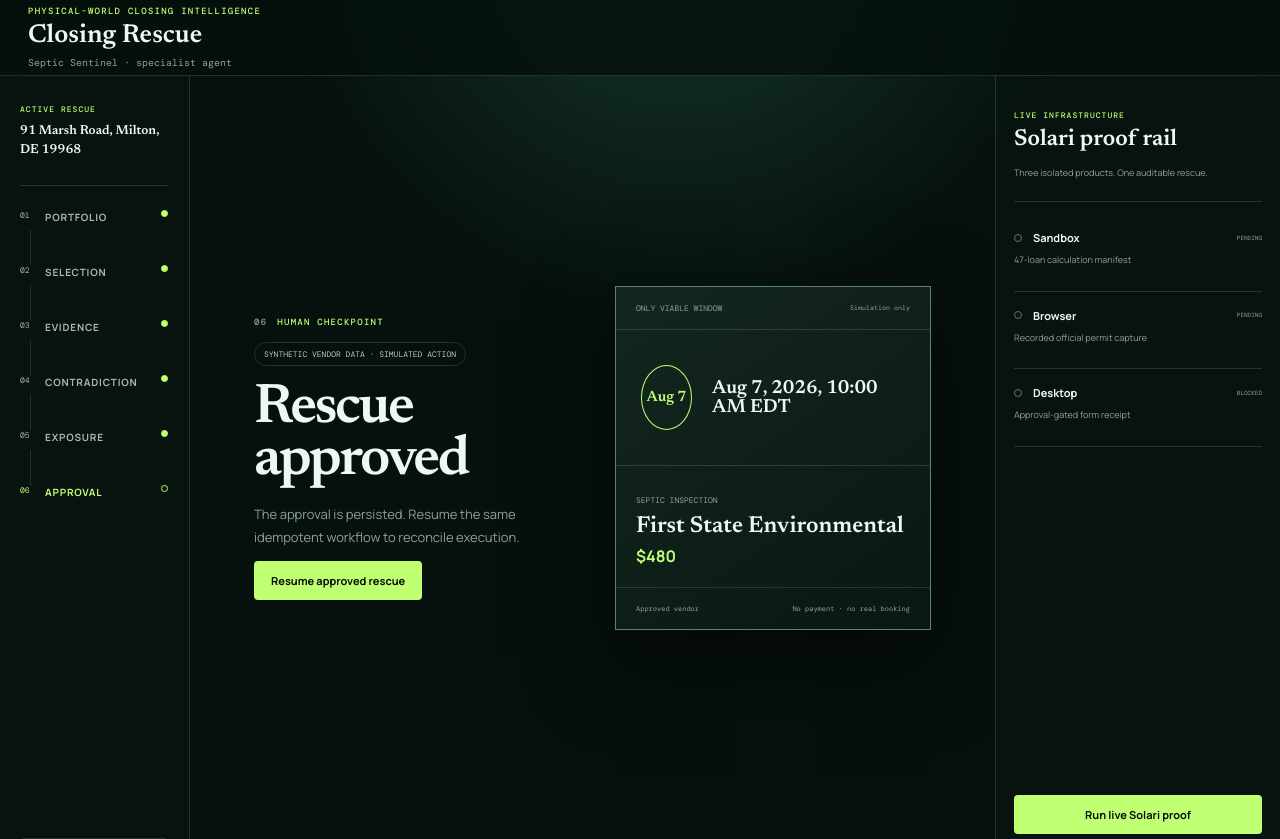
Test: Closing Rescue documentary controller › retains the token and resumes an approved workflow with no action
Click the button "Resume approved rescue". click: [338, 580]
box: [254, 561, 422, 600]
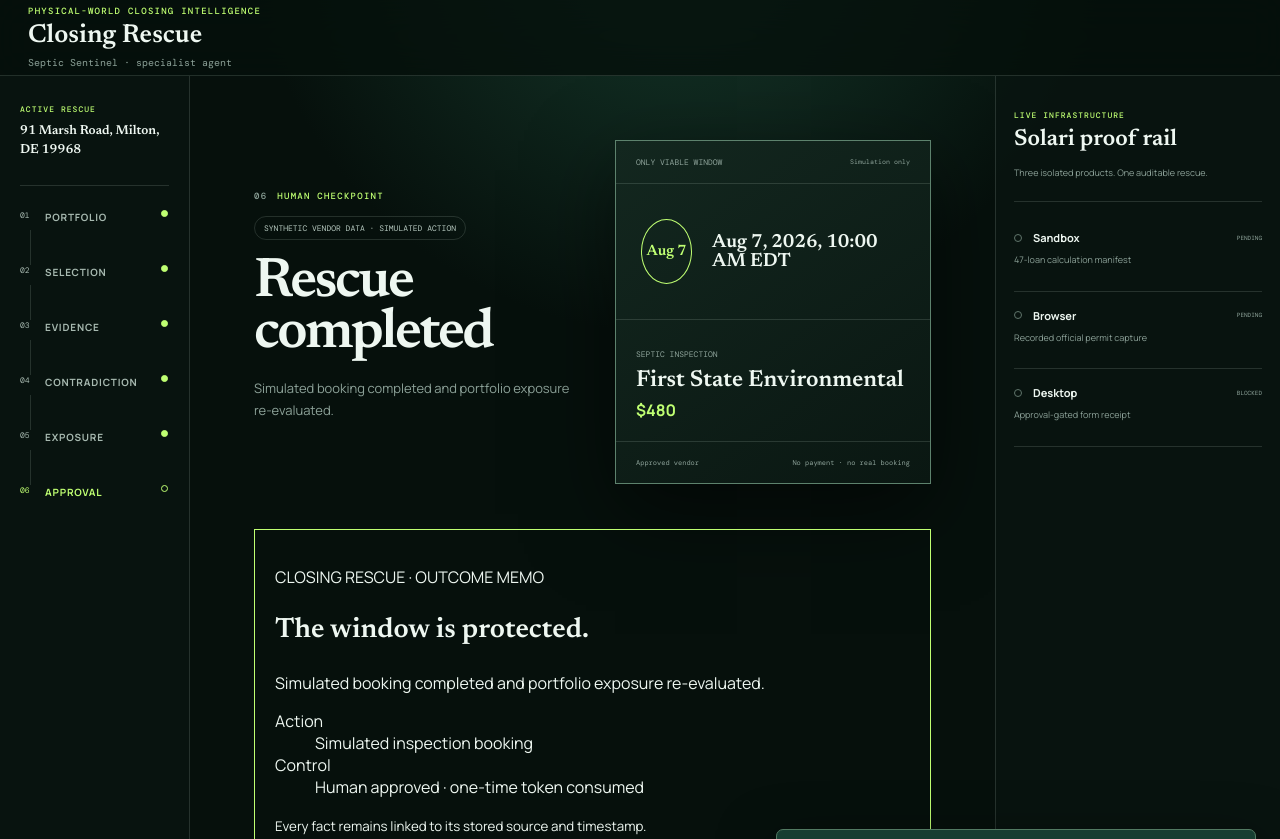
Expected: the heading "Rescue completed" is shown, [254, 255, 492, 362]
